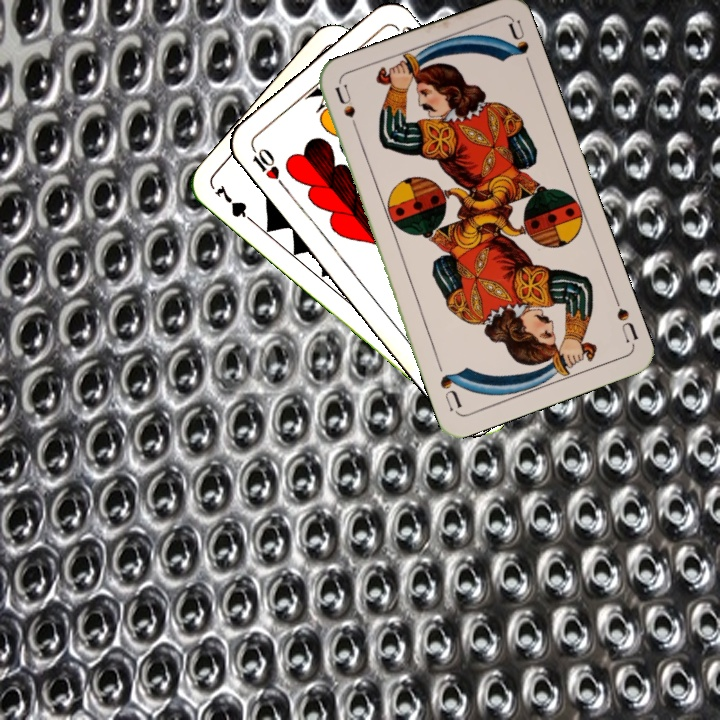G7: (211, 180, 260, 228)
H10: (246, 141, 288, 191)
SU: (331, 81, 363, 140), (609, 291, 641, 348)
